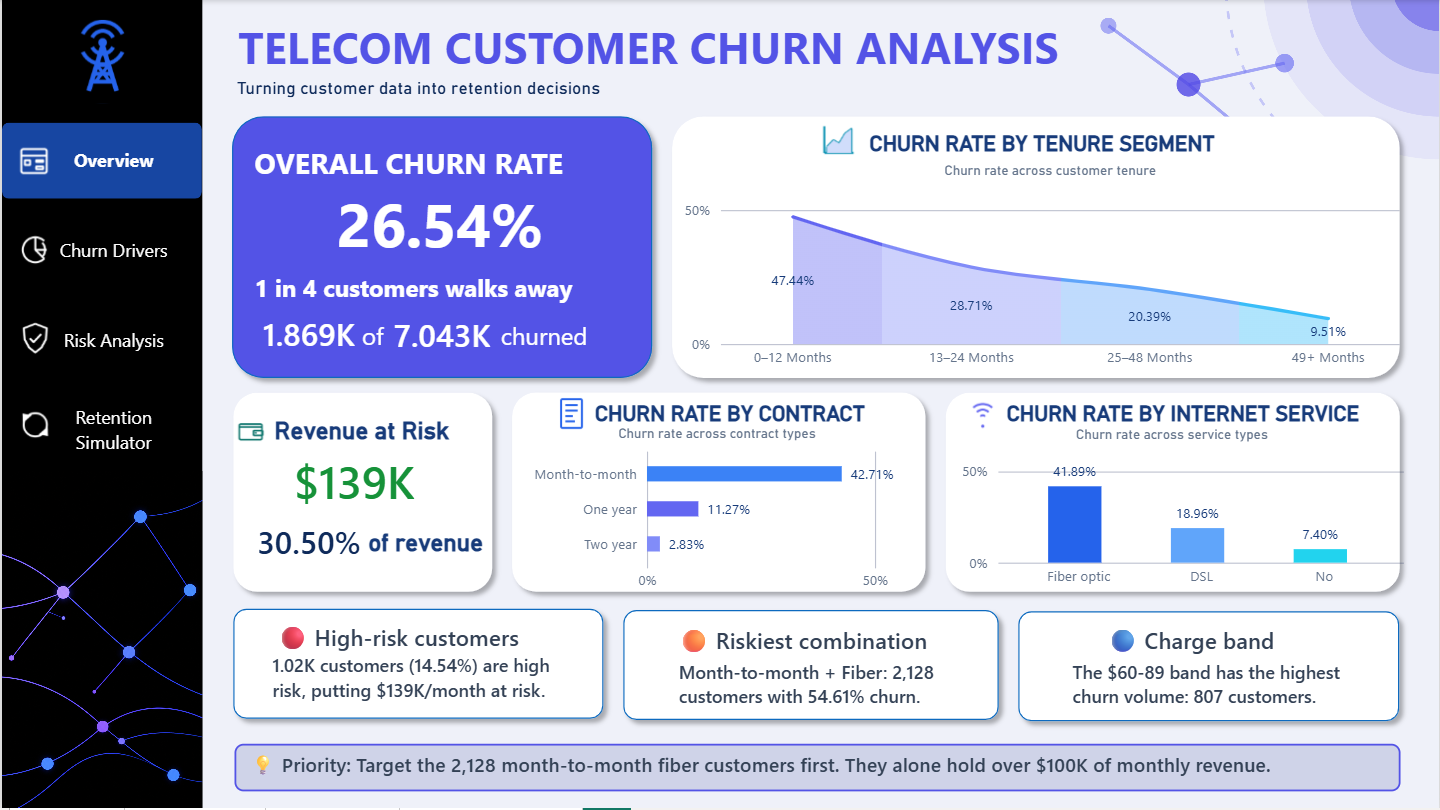

Layout of this report page (visuals, bound fields, positions):
{"tool":"powerbi","page":{"name":"Overview","canvas":[1280,720],"ordinal":0},"visuals":[{"type":"image","box":[947.1,0,333,170.1],"z":0},{"type":"shape","box":[0,0,178.6,720.2],"z":1000},{"type":"pageNavigator","box":[0,108.6,178.6,311],"z":2000},{"type":"textbox","title":"TELECOM CUSTOMER CHURN ANALYSIS","box":[209.9,15.7,755.2,51.9],"z":3000},{"type":"textbox","title":"Turning customer data into retention decisions","box":[209,68.8,433.1,25.3],"z":4000},{"type":"shape","box":[196.6,340.2,248.5,195.4],"z":5000},{"type":"actionButton","box":[727.5,97.7,45.8,48.3],"z":6000},{"type":"actionButton","box":[6,117,45.8,53.1],"z":7000},{"type":"actionButton","box":[6.2,195.4,45.8,53.1],"z":8000},{"type":"actionButton","box":[6.2,275.4,45.8,53.1],"z":9000},{"type":"actionButton","box":[6.2,352.3,45.8,53.1],"z":10000},{"type":"actionButton","box":[14.5,6,149.6,98.9],"z":11000},{"type":"shape","box":[195.4,94.1,392.1,250.9],"z":12000},{"type":"cardVisual","title":"OVERALL CHURN  RATE","fields":{"Data":["_Measures.Churn Rate"]},"box":[273.9,162.9,232.8,78.4],"z":13000},{"type":"textbox","title":"OVERALL CHURN RATE","box":[224.4,127.9,305.2,35],"z":14000},{"type":"textbox","title":"1 in 4 customers walks away","box":[224.4,241.3,305.2,44.6],"z":15000},{"type":"cardVisual","title":"TOTAL CUSTOMERS","fields":{"Data":["_Measures.Total Customers"]},"box":[325.7,270.2,132.7,61.5],"z":16000},{"type":"cardVisual","title":"CHURNED CUSTOMERS","fields":{"Data":["_Measures.Churned Customers"]},"box":[216,266.6,115.8,65.1],"z":17000},{"type":"textbox","title":"of","box":[320.9,283.5,54.3,44.6],"z":18000},{"type":"textbox","title":"churned","box":[444,283.5,100.1,44.6],"z":19000},{"type":"textbox","title":"Revenue at Risk","box":[223.2,370.4,195.4,26.5],"z":20000},{"type":"cardVisual","title":"REVENUE AT RISK","fields":{"Data":["_Measures.Churned Revenue %"]},"box":[208,455.6,131.5,60.3],"z":21000},{"type":"shape","box":[196.6,533.2,347.5,115.8],"z":22000},{"type":"textbox","title":"of revenue","box":[313,471.2,129.1,36.2],"z":23000},{"type":"cardVisual","title":"REVENUE AT RISK","fields":{"Data":["_Measures.Monthly Revenue at Risk"]},"box":[241.3,396.9,144.8,70],"z":24000},{"type":"shape","box":[445.2,328.2,386.1,207.5],"z":25000},{"type":"clusteredBarChart","title":"CHURN RATE BY CONTRACT","fields":{"Category":["Telco_Churn.Contract"],"Y":["_Measures.Churn Rate"]},"box":[446.4,345,383.6,184.6],"z":26000},{"type":"textbox","title":"Churn rate across contract types","box":[529.2,378.3,216,25.3],"z":27000},{"type":"shape","box":[587.5,94.1,666,250.9],"z":28000},{"type":"stackedAreaChart","title":"CHURN RATE BY TENURE SEGMENT","fields":{"Category":["Telco_Churn.TenureSegment"],"Y":["_Measures.Churn Rate"]},"box":[587.2,104.7,657,226.7],"z":29000},{"type":"textbox","title":"Churn rate across customer tenure","box":[831.7,144.2,204,18],"z":30000},{"type":"shape","box":[831.2,340.2,422.3,195.4],"z":31000},{"type":"clusteredColumnChart","title":"CHURN RATE BY INTERNET SERVICE","fields":{"Category":["Telco_Churn.InternetService"],"Y":["_Measures.Churn Rate"]},"box":[834.9,345,413.8,181],"z":32000},{"type":"textbox","title":"Churn rate across service types","box":[934.2,379.2,216,25.3],"z":33000},{"type":"textbox","title":"🔴 High-risk customers","box":[238.9,553.8,290.8,37.4],"z":34000},{"type":"textbox","title":"1.02K customers (14.54%) are high risk, putting $139K/month at risk.","box":[235,580.7,279.9,48.3],"z":35000},{"type":"shape","box":[544.1,534.5,352.3,115.8],"z":36000},{"type":"textbox","title":"🟠 Riskiest combination","box":[597.2,556.2,249.7,37.4],"z":37000},{"type":"textbox","title":"Month-to-month + Fiber: 2,128 customers with 54.61% churn.","box":[597.2,586.3,279.9,48.3],"z":38000},{"type":"shape","box":[896.4,535.7,357.1,115.8],"z":39000},{"type":"textbox","title":"🔵 Charge band","box":[978.4,556.2,171.3,37.4],"z":40000},{"type":"textbox","title":"The $60-89 band has the highest churn volume: 807 customers.","box":[947.1,586.3,279.9,48.3],"z":41000},{"type":"textbox","title":"💡 Priority: Target the 2,128 month-to-month fiber customers first. They alone hold over $100K of monthly revenue.","box":[207.5,662.3,1038.7,42.2],"z":42000},{"type":"actionButton","box":[722.7,97.7,45.8,48.3],"z":43000},{"type":"actionButton","box":[483.8,341.4,45.8,43.4],"z":44000},{"type":"actionButton","box":[850,344,45.8,43.4],"z":45000},{"type":"actionButton","box":[201.5,357.1,39.8,43.4],"z":46000},{"type":"image","box":[0,419.8,178.6,300.4],"z":47000}]}

Visuals, with their boxes in screenshot pixels (x1, y1, x2, y2), scaled from the page's 1280x720 canvas onto the 1440x810 screenshot:
image: bbox=(1065, 0, 1439, 191)
shape: bbox=(0, 0, 201, 809)
pageNavigator: bbox=(0, 122, 201, 472)
"TELECOM CUSTOMER CHURN ANALYSIS" textbox: bbox=(236, 18, 1086, 76)
"Turning customer data into retention decisions" textbox: bbox=(235, 77, 722, 106)
shape: bbox=(221, 383, 501, 603)
actionButton: bbox=(818, 110, 870, 164)
actionButton: bbox=(7, 132, 58, 191)
actionButton: bbox=(7, 220, 58, 280)
actionButton: bbox=(7, 310, 58, 370)
actionButton: bbox=(7, 396, 58, 456)
actionButton: bbox=(16, 7, 185, 118)
shape: bbox=(220, 106, 661, 388)
"OVERALL CHURN  RATE" cardVisual: bbox=(308, 183, 570, 271)
"OVERALL CHURN RATE" textbox: bbox=(252, 144, 596, 183)
"1 in 4 customers walks away" textbox: bbox=(252, 271, 596, 322)
"TOTAL CUSTOMERS" cardVisual: bbox=(366, 304, 516, 373)
"CHURNED CUSTOMERS" cardVisual: bbox=(243, 300, 373, 373)
"of" textbox: bbox=(361, 319, 422, 369)
"churned" textbox: bbox=(500, 319, 612, 369)
"Revenue at Risk" textbox: bbox=(251, 417, 471, 447)
"REVENUE AT RISK" cardVisual: bbox=(234, 513, 382, 580)
shape: bbox=(221, 600, 612, 730)
"of revenue" textbox: bbox=(352, 530, 497, 571)
"REVENUE AT RISK" cardVisual: bbox=(271, 447, 434, 525)
shape: bbox=(501, 369, 935, 603)
"CHURN RATE BY CONTRACT" clusteredBarChart: bbox=(502, 388, 934, 596)
"Churn rate across contract types" textbox: bbox=(595, 426, 838, 454)
shape: bbox=(661, 106, 1410, 388)
"CHURN RATE BY TENURE SEGMENT" stackedAreaChart: bbox=(661, 118, 1400, 373)
"Churn rate across customer tenure" textbox: bbox=(936, 162, 1165, 182)
shape: bbox=(935, 383, 1410, 603)
"CHURN RATE BY INTERNET SERVICE" clusteredColumnChart: bbox=(939, 388, 1405, 592)
"Churn rate across service types" textbox: bbox=(1051, 427, 1294, 455)
"🔴 High-risk customers" textbox: bbox=(269, 623, 596, 665)
"1.02K customers (14.54%) are high risk, putting $139K/month at risk." textbox: bbox=(264, 653, 579, 708)
shape: bbox=(612, 601, 1008, 732)
"🟠 Riskiest combination" textbox: bbox=(672, 626, 953, 668)
"Month-to-month + Fiber: 2,128 customers with 54.61% churn." textbox: bbox=(672, 660, 987, 714)
shape: bbox=(1008, 603, 1410, 733)
"🔵 Charge band" textbox: bbox=(1101, 626, 1293, 668)
"The $60-89 band has the highest churn volume: 807 customers." textbox: bbox=(1065, 660, 1380, 714)
"💡 Priority: Target the 2,128 month-to-month fiber customers first. They alone hold over $100K of monthly revenue." textbox: bbox=(233, 745, 1402, 793)
actionButton: bbox=(813, 110, 865, 164)
actionButton: bbox=(544, 384, 596, 433)
actionButton: bbox=(956, 387, 1008, 436)
actionButton: bbox=(227, 402, 271, 451)
image: bbox=(0, 472, 201, 809)
